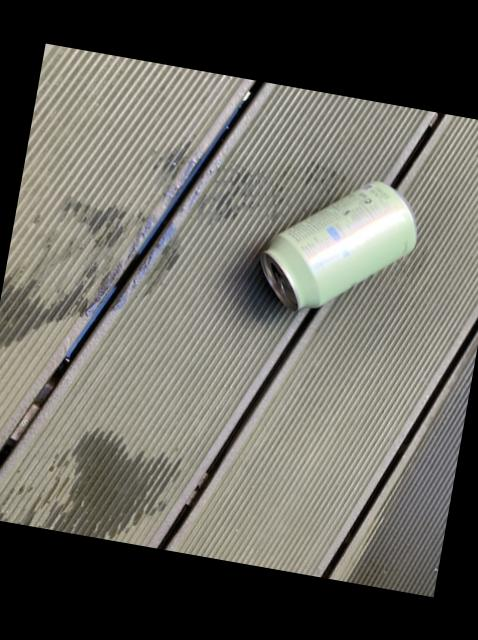metal: (259, 181, 415, 310)
